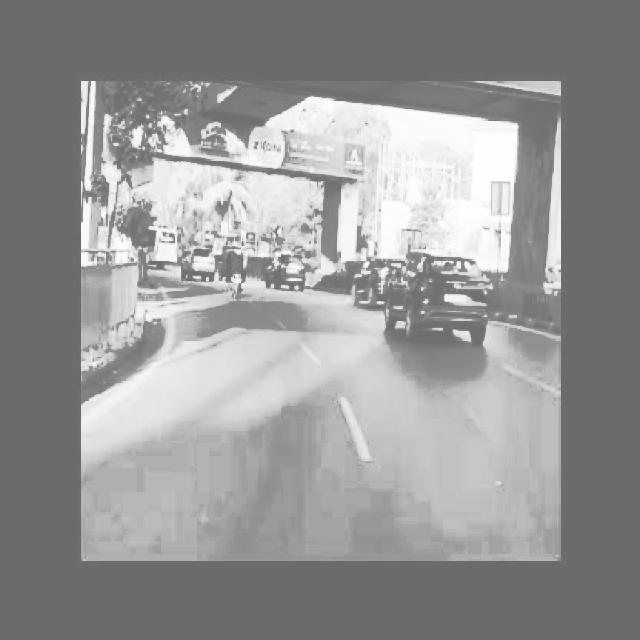Car: (391, 242, 494, 343), (262, 241, 312, 304), (346, 245, 402, 299), (180, 245, 220, 287)
